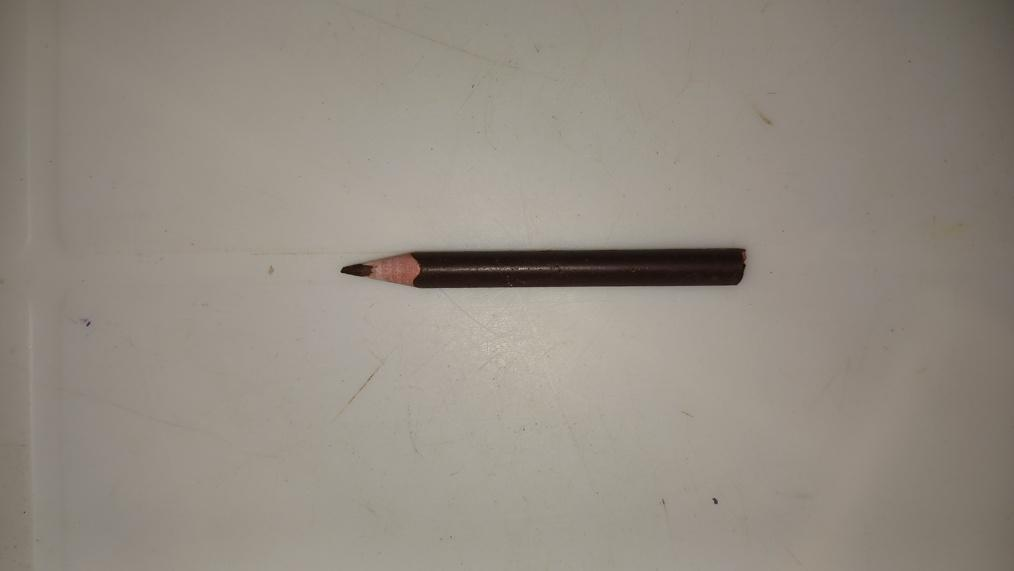Pencil: (342, 246, 747, 290)
